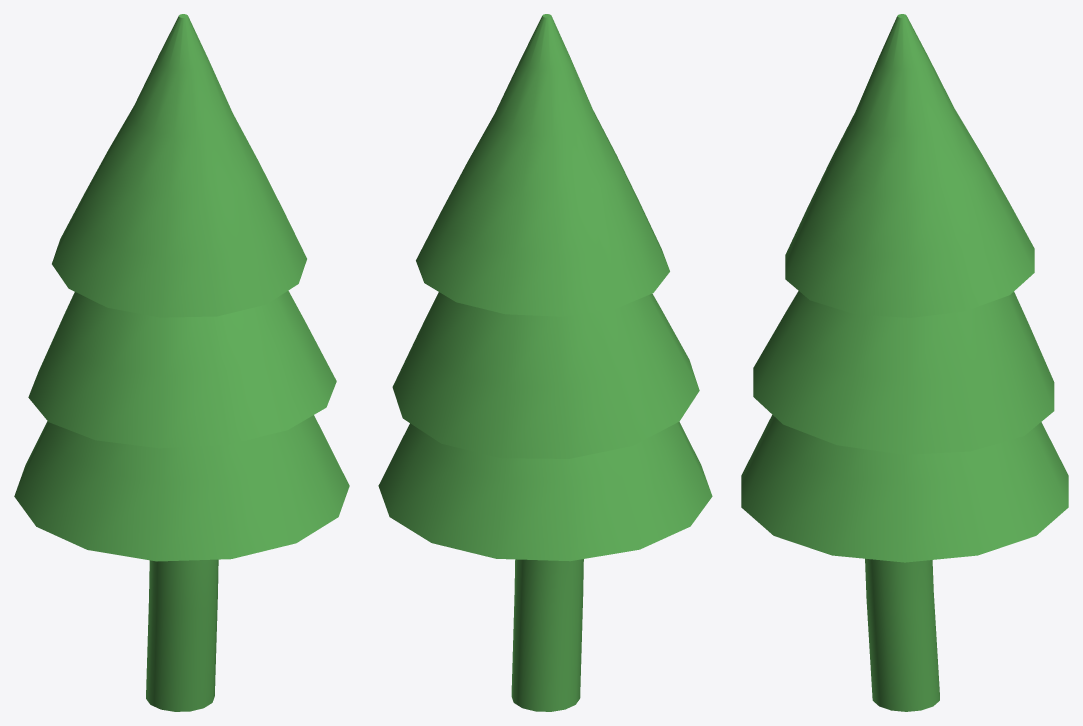
File: PineTree.FBX
3 views of the same model, side by side, from view 1: azimuth 30°, elevation 25°; view 2: azimuth 150°, elevation 25°; view 3: azimuth 270°, elevation 25° (orthographic).
Parts seen in each view (by area): view 1: PineTree; view 2: PineTree; view 3: PineTree.
Boxes of the visible parts, <box> form: PineTree: <box>14,14,349,711</box>; PineTree: <box>378,14,712,711</box>; PineTree: <box>741,14,1068,711</box>.
Bounding box in the file's own units: 24.84 × 55.63 × 24.21.
